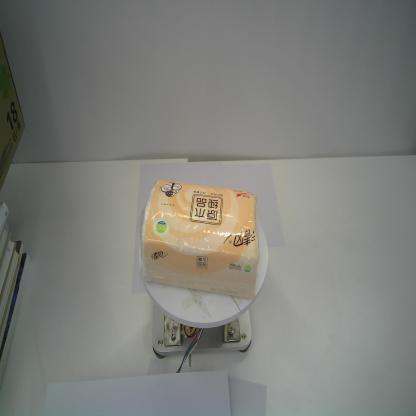Tissue: (138, 180, 260, 300)
